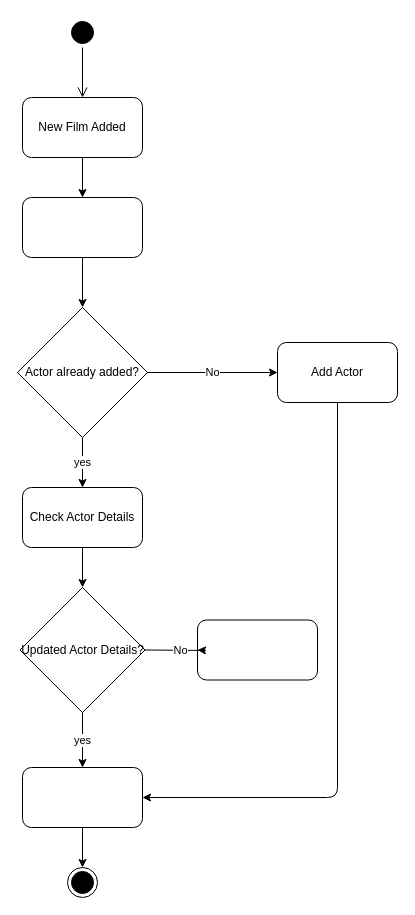
Some shapes in this 415 by 915 pixel diagram are drawn without their labels. The centre of each missing label's shape, as x and y in pixels:
"Add Film" goes at (x=82, y=797).
"Add List of Actors" goes at (x=82, y=227).
"Update Actor Details" goes at (x=257, y=649).
